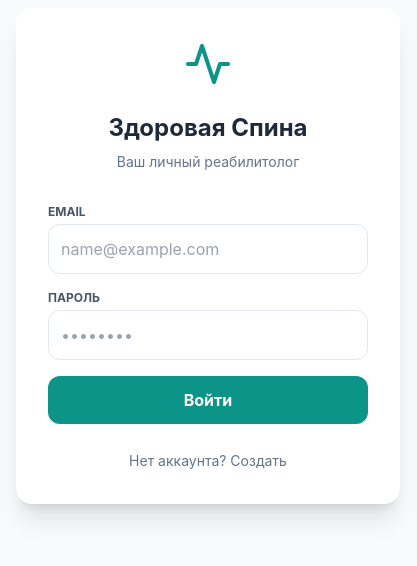
Test: AuthScreen › shows error message when auth fails
The width and height of the screenshot is (417, 566).
In the field with placeholder "name@example.com": (208, 249) [48,224,368,274], type "a@b.com"
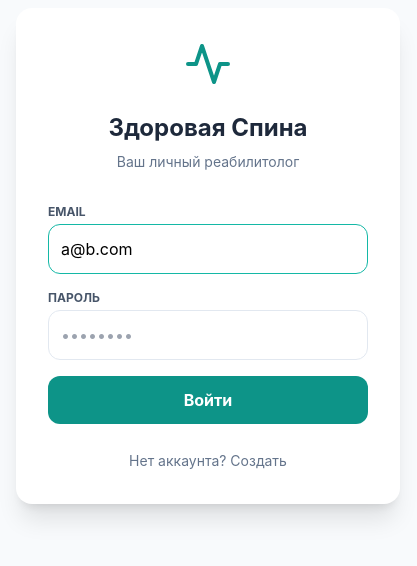
In the password field with placeholder "••••••••": (208, 335) [48,310,368,360], type "pass"
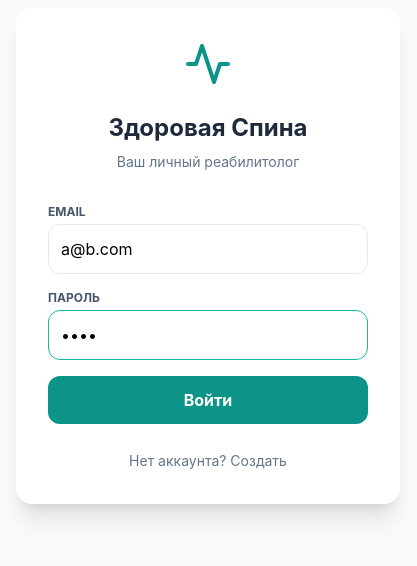
Click the submit button: (208, 400) [48,376,368,424]
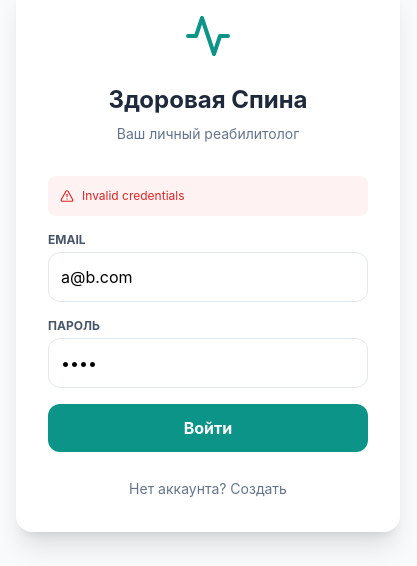
Expected: the text "Invalid credentials" is shown, [48,176,368,216]
